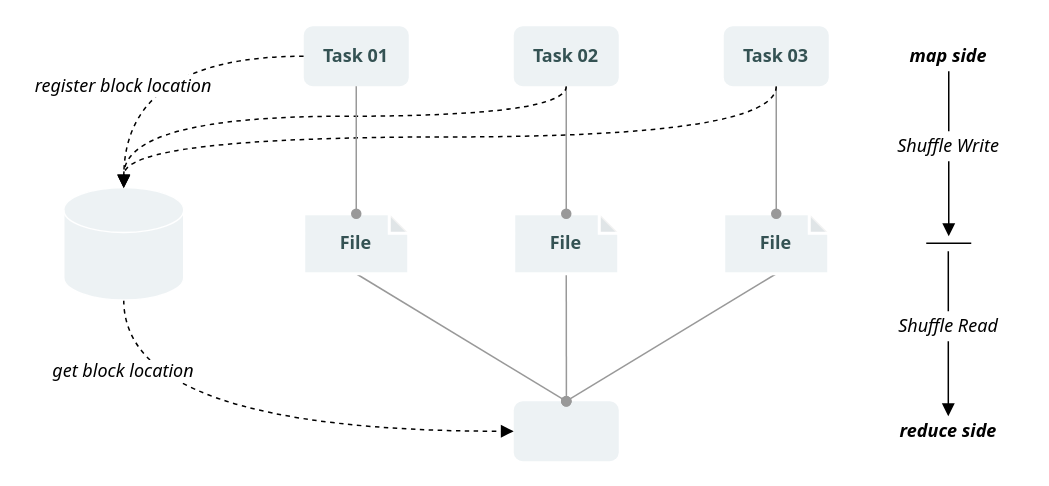
Image size: 1049x486. Some labels were removed from this diagram. The shapes that lost their labels are listed below. From the top down, each one's centre as x and y in pixels, then its label:
At point 123,243: "MapOutput Tracker".
At point 565,430: "Task".
